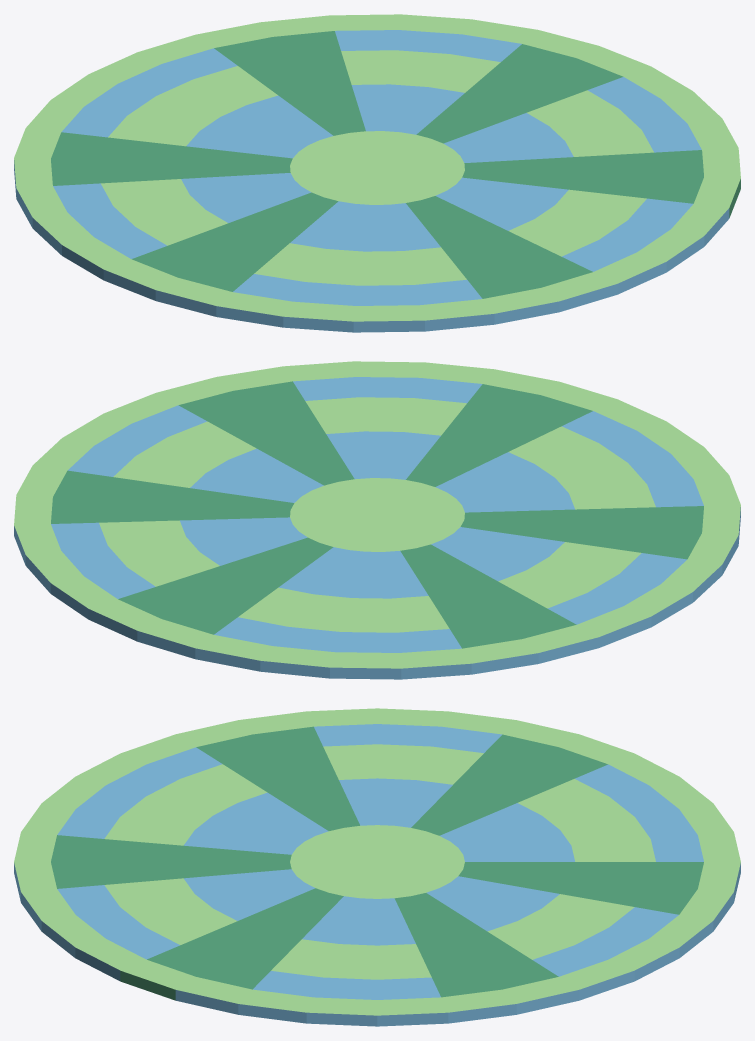
File: Carpet.fbx
3 views of the same model, one above another, from view 1: azimuth 30°, elevation 25°; view 2: azimuth 150°, elevation 25°; view 3: azimuth 270°, elevation 25° (orthographic).
Parts seen in each view (by area): view 1: Carpet; view 2: Carpet; view 3: Carpet.
Part boxes in pixels (x1,y1,x2,y2): Carpet: (14, 14, 740, 332); Carpet: (14, 361, 740, 679); Carpet: (14, 708, 740, 1026).
Size of the model in its own units: 223 by 3.69 by 223.
